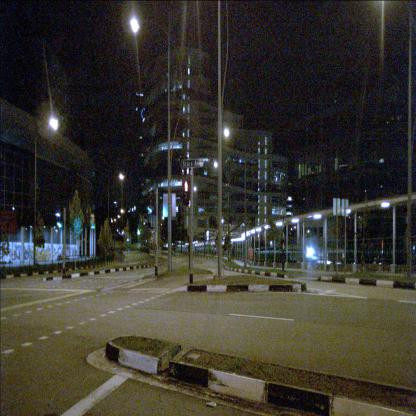human-pedestrian-adult: (249, 244, 253, 266), (232, 245, 235, 262)
